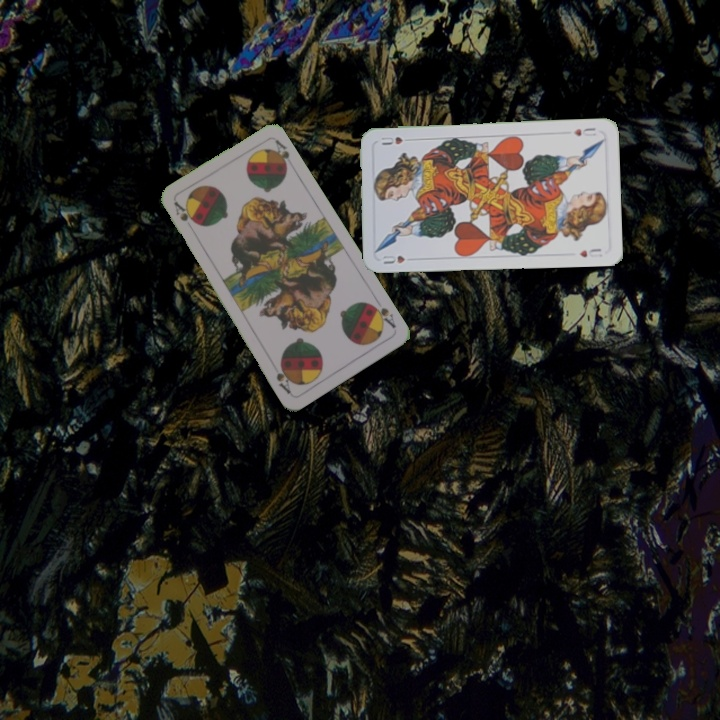HU: (379, 250, 407, 267), (570, 124, 599, 139)
SA: (365, 299, 399, 331), (170, 198, 191, 224)
